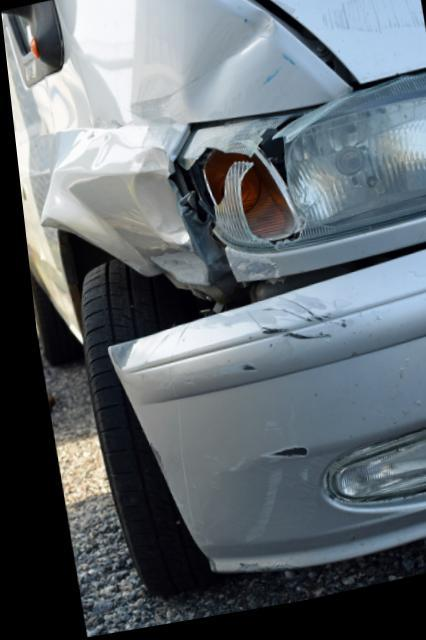dent: (65, 154, 191, 289), (179, 20, 273, 125)
dislocated part: (97, 250, 426, 584)
lamp broken: (180, 81, 426, 260)
scratch: (126, 301, 334, 394), (214, 426, 298, 553), (314, 0, 423, 47)
